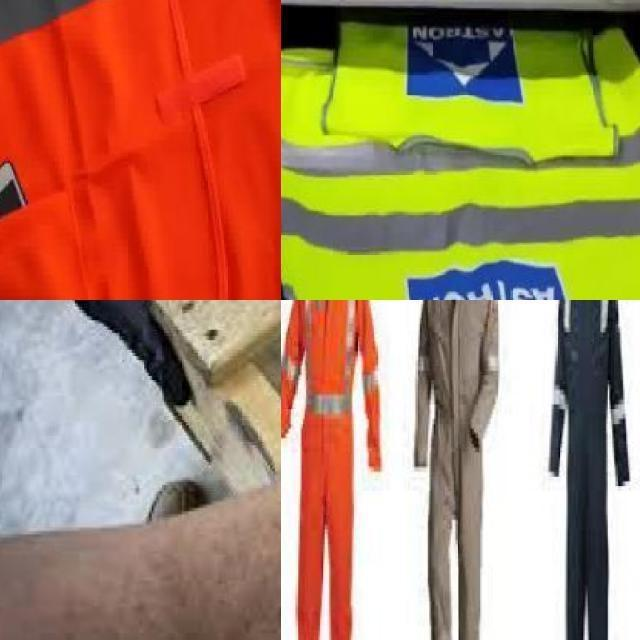apron: (2, 300, 199, 375)
